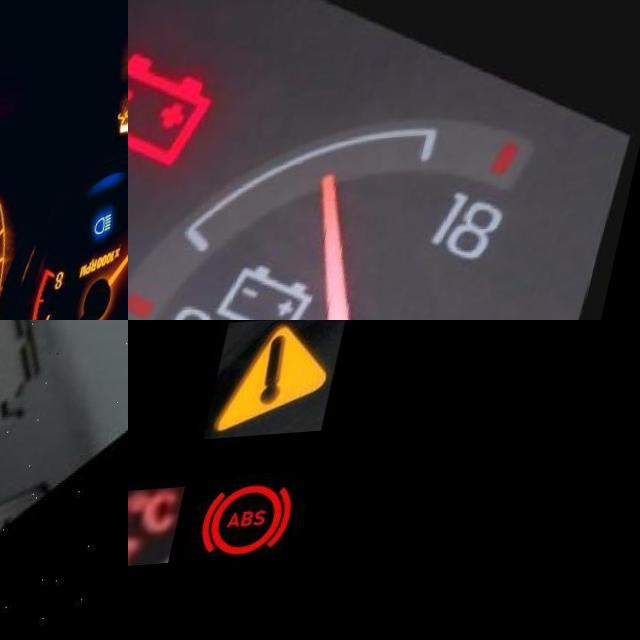Central Warning lamp: (221, 320, 360, 444)
Engine cooling system: (128, 491, 205, 574)
